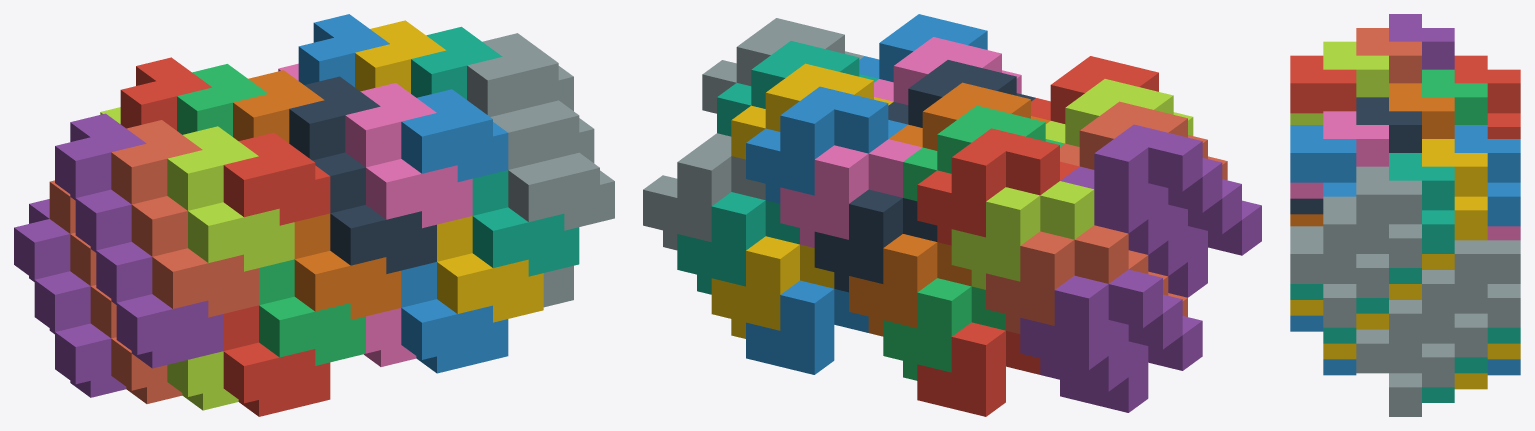
Rendered from tiling.obj.
3 views of the same model, side by side, from view 1: azimuth 30°, elevation 25°; view 2: azimuth 150°, elevation 25°; view 3: azimuth 270°, elevation 25° (orthographic). The views are drawn at different scales.
Parts seen in each view (by area): view 1: copy_85, copy_86, copy_82, copy_58, copy_73, copy_77, copy_74, copy_78, copy_79, copy_76, copy_84, copy_75 (+35 smaller); view 2: copy_14, copy_13, copy_5, copy_41, copy_11, copy_8, copy_12, copy_10, copy_1, copy_2, copy_4, copy_9 (+20 smaller); view 3: copy_58, copy_82, copy_10, copy_70, copy_22, copy_14, copy_34, copy_46, copy_28, copy_86, copy_43, copy_85 (+27 smaller).
Part boxes in pixels (x1,y1,x2,y2): copy_85: (223,132,330,225); copy_86: (401,89,508,181); copy_82: (508,152,614,230); copy_58: (467,33,573,116); copy_73: (223,342,330,416); copy_77: (116,294,223,368); copy_74: (401,299,508,373); copy_78: (294,251,401,319); copy_79: (472,207,579,276); copy_76: (437,253,543,322); copy_84: (366,159,472,228); copy_75: (259,296,365,365); copy_14: (746,86,888,195); copy_13: (917,128,1059,237); copy_5: (1020,269,1162,370); copy_41: (1060,124,1202,233); copy_11: (951,181,1094,281); copy_8: (986,225,1128,325); copy_12: (780,139,922,239); copy_10: (643,133,765,242); copy_1: (917,322,1040,416); copy_2: (746,280,868,374); copy_4: (711,236,834,330); copy_9: (814,189,937,283); copy_58: (1356,166,1421,267); copy_82: (1290,226,1356,327); copy_10: (1454,240,1520,327); copy_70: (1323,196,1388,297); copy_22: (1422,270,1487,357); copy_14: (1454,125,1520,226); copy_34: (1389,300,1454,387); copy_46: (1356,329,1421,416); copy_28: (1422,139,1487,240); copy_86: (1290,125,1356,196); copy_43: (1389,153,1454,253); copy_85: (1290,55,1356,113).
Size of the model in its own units: 14 by 7 by 7.
